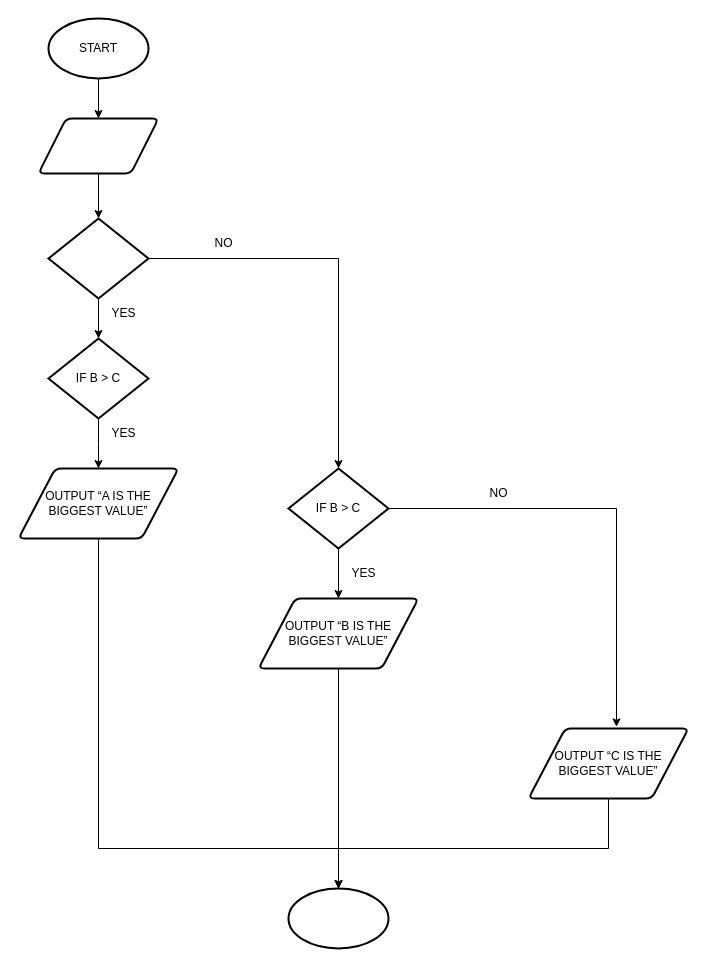
This 706x966 diagram has some shape labels left out. Here are the shapes that lost their labels. From the top down, the centre of each, then its label:
At (98,145): "INPUT A, B, C".
At (98,258): "IF A > B".
At (338,918): "END".
